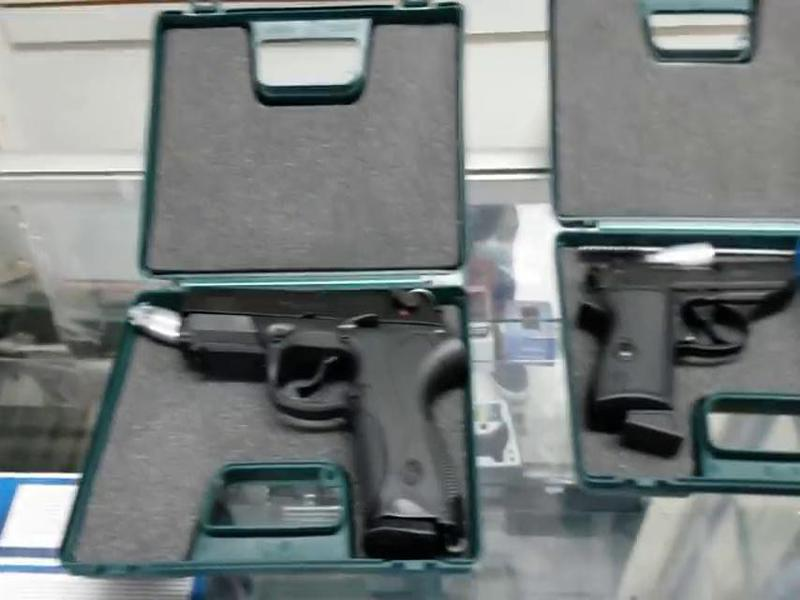Pistola: (153, 281, 493, 550), (572, 241, 800, 408)
